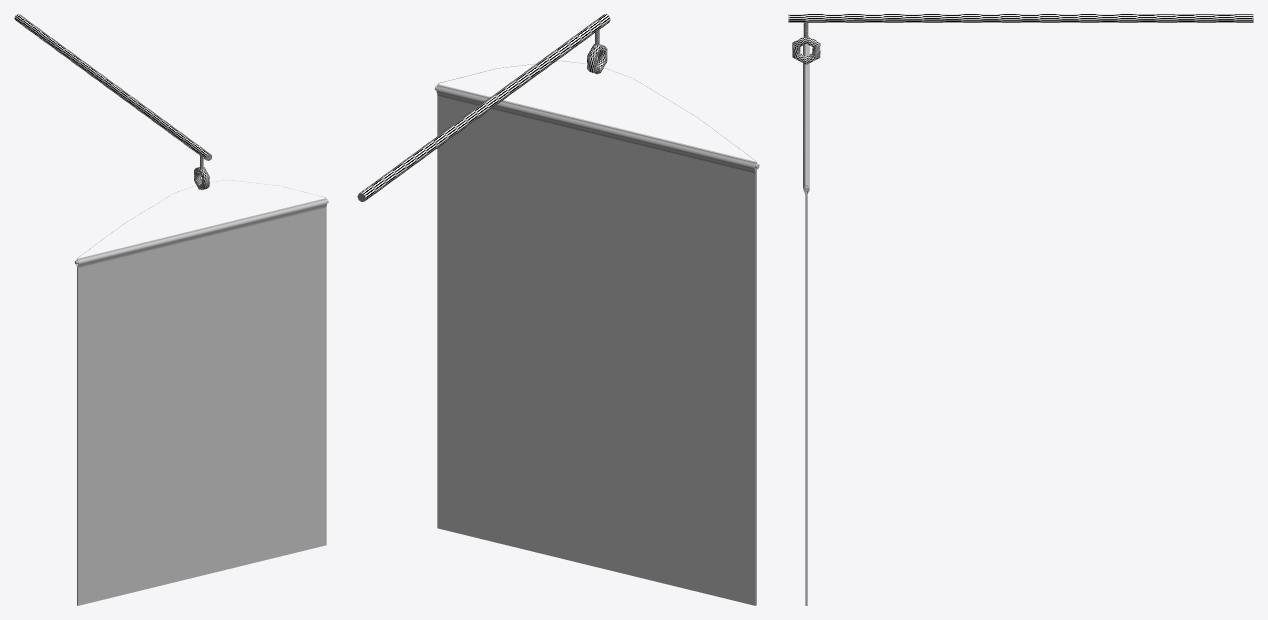
The model's file is wimbel 1.fbx.
3 renders of one model, left to right at view 1: azimuth 30°, elevation 25°; view 2: azimuth 150°, elevation 25°; view 3: azimuth 270°, elevation 25°, orthographic. The views are drawn at different scales.
Parts seen in each view (by area): view 1: wible, rod; view 2: wible, rod; view 3: rod, wible.
Boxes of the visible parts, left/top/right/bottom form: wible: left=76, top=198, right=327, bottom=605; rod: left=14, top=14, right=212, bottom=168; wible: left=436, top=84, right=757, bottom=605; rod: left=357, top=14, right=610, bottom=201; rod: left=788, top=14, right=1253, bottom=37; wible: left=803, top=44, right=809, bottom=605.
Bounding box in the file's own units: 152 × 246 × 200.
Materials: 3 (1 with a texture image).
